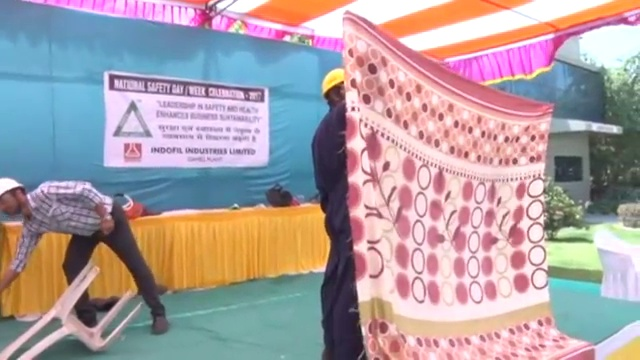helmet: (319, 68, 345, 97), (1, 175, 30, 200)
helmet_on: (1, 172, 35, 217), (318, 67, 345, 109)
person: (1, 173, 173, 334), (308, 67, 368, 360)
